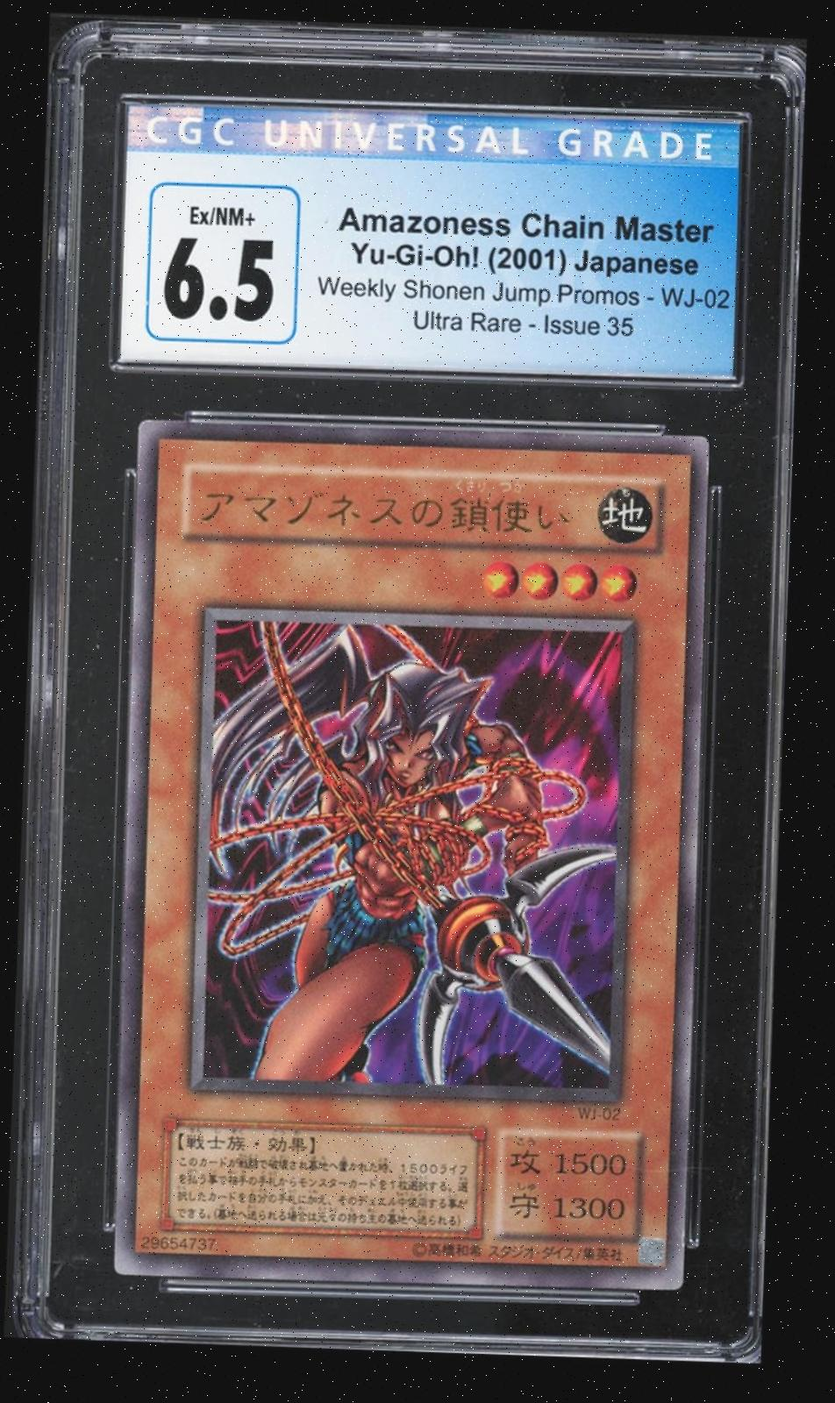card-2UtV: (113, 419, 710, 1291)
